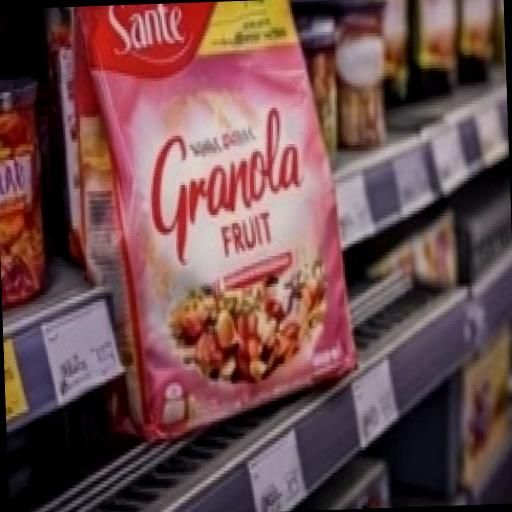granola: (54, 0, 385, 425)
